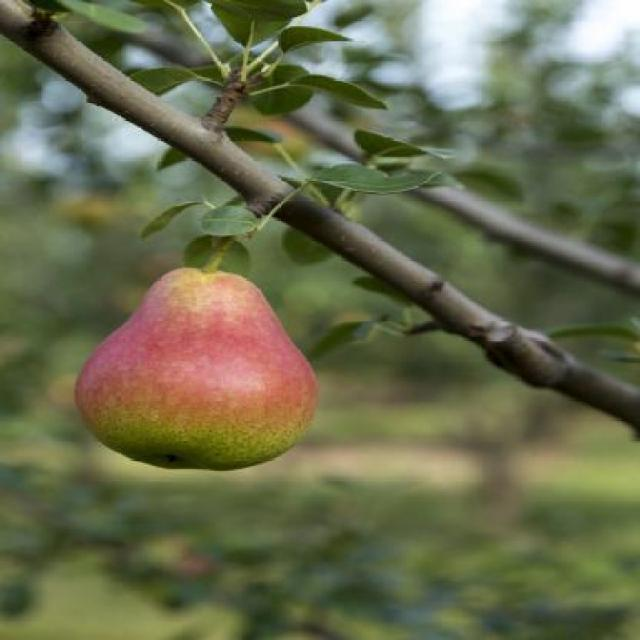Pear: (76, 268, 316, 472)
